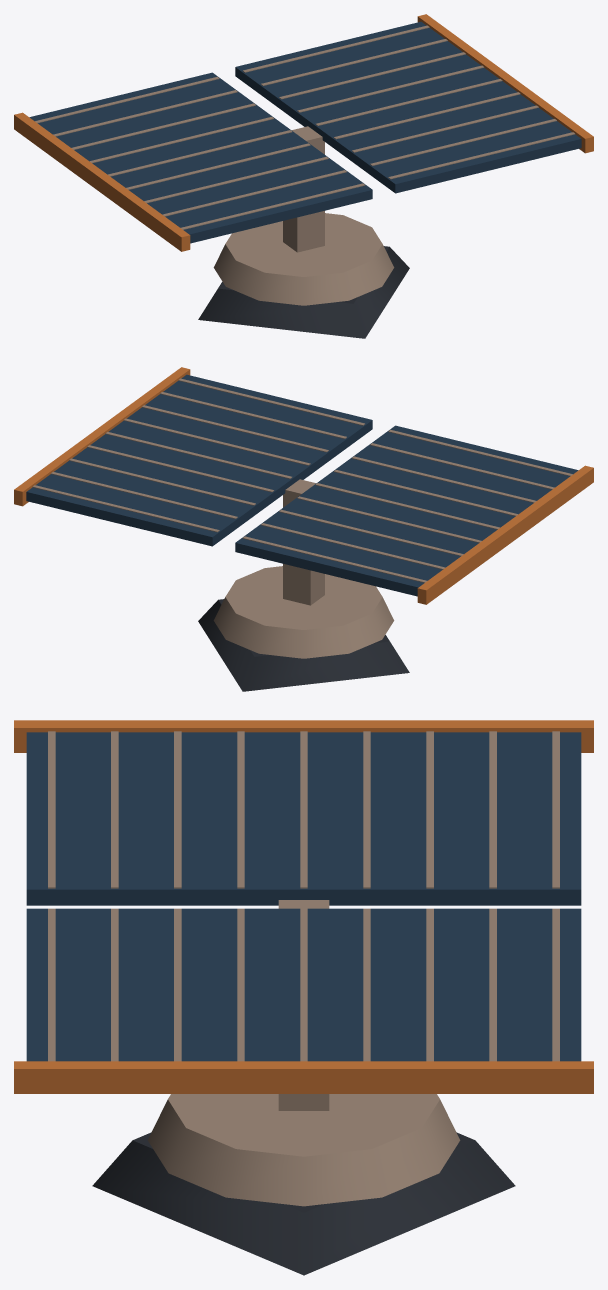
The model's file is compact_high_gravity--radiator.glb.
3 renders of one model, top to bottom at view 1: azimuth 30°, elevation 25°; view 2: azimuth 150°, elevation 25°; view 3: azimuth 270°, elevation 25°, orthographic. The views are drawn at different scales.
Parts seen in each view (by area): view 1: radiator_panel_15, radiator_panel_4, rotation_bearing_2, mount_adapter_1, panel_edge_14, panel_edge_25, thermal_riser_3, thermal_channel_19, thermal_channel_20, thermal_channel_22, thermal_channel_16, thermal_channel_18 (+13 smaller); view 2: radiator_panel_15, radiator_panel_4, rotation_bearing_2, mount_adapter_1, panel_edge_14, panel_edge_25, thermal_riser_3, thermal_channel_18, thermal_channel_20, thermal_channel_21, thermal_channel_16, thermal_channel_19 (+13 smaller); view 3: radiator_panel_4, radiator_panel_15, rotation_bearing_2, mount_adapter_1, panel_edge_25, panel_edge_14, thermal_riser_3, thermal_channel_5, thermal_channel_6, thermal_channel_7, thermal_channel_8, thermal_channel_9 (+13 smaller).
Boxes of the visible parts, x1,y1,x2,y2 form: radiator_panel_15: (235,21,581,193); radiator_panel_4: (29,72,372,243); rotation_bearing_2: (213,213,394,305); mount_adapter_1: (198,246,409,338); panel_edge_14: (14,112,190,251); panel_edge_25: (417,14,593,153); thermal_riser_3: (283,126,324,252); thermal_channel_19: (297,65,484,112); thermal_channel_20: (315,79,502,125); thermal_channel_22: (352,105,538,152); thermal_channel_16: (243,25,429,72); thermal_channel_18: (279,52,465,99); radiator_panel_15: (26,374,372,546); radiator_panel_4: (235,425,578,596); rotation_bearing_2: (213,566,394,658); mount_adapter_1: (198,599,409,691); panel_edge_14: (417,465,593,604); panel_edge_25: (14,367,190,506); thermal_riser_3: (283,479,324,605); thermal_channel_18: (69,458,255,505); thermal_channel_20: (105,432,292,478); thermal_channel_21: (123,418,310,465); thermal_channel_16: (33,485,219,532); thermal_channel_19: (87,445,274,492); radiator_panel_4: (26,732,581,905); radiator_panel_15: (26,908,581,1061); rotation_bearing_2: (147,1094,460,1206); mount_adapter_1: (92,1132,515,1275); panel_edge_25: (14,1061,593,1093); panel_edge_14: (14,720,593,752); thermal_riser_3: (278,900,329,1110); thermal_channel_5: (552,731,559,888); thermal_channel_6: (489,731,496,888); thermal_channel_7: (426,731,433,888); thermal_channel_8: (363,731,370,888); thermal_channel_9: (300,731,307,888).
Bounding box in the file's own units: 19.62 × 7.65 × 13.8.
